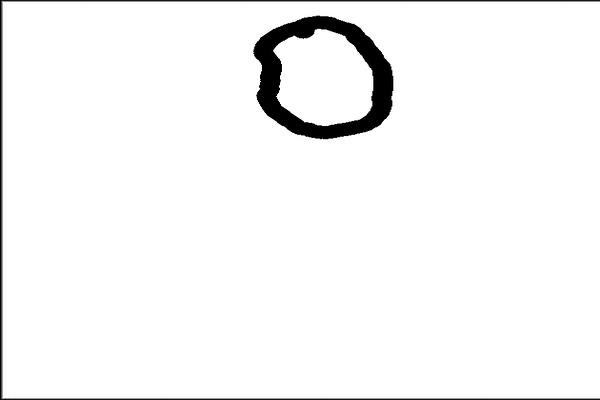O: (245, 5, 398, 146)
